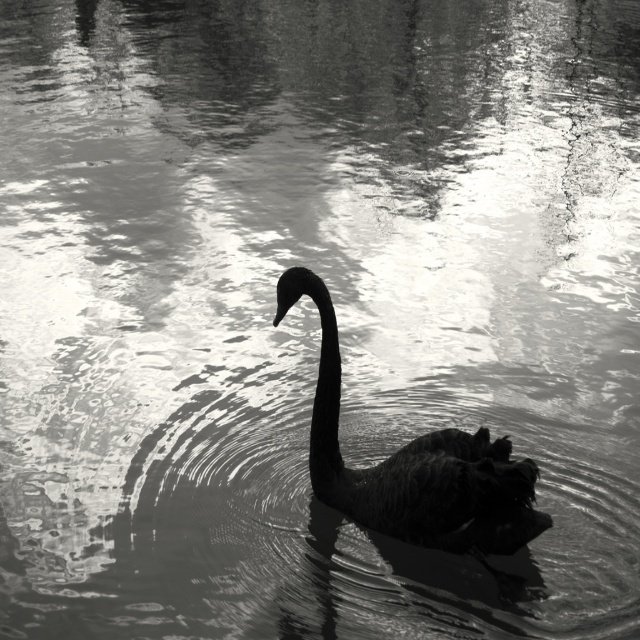Swan: (268, 263, 555, 557)
